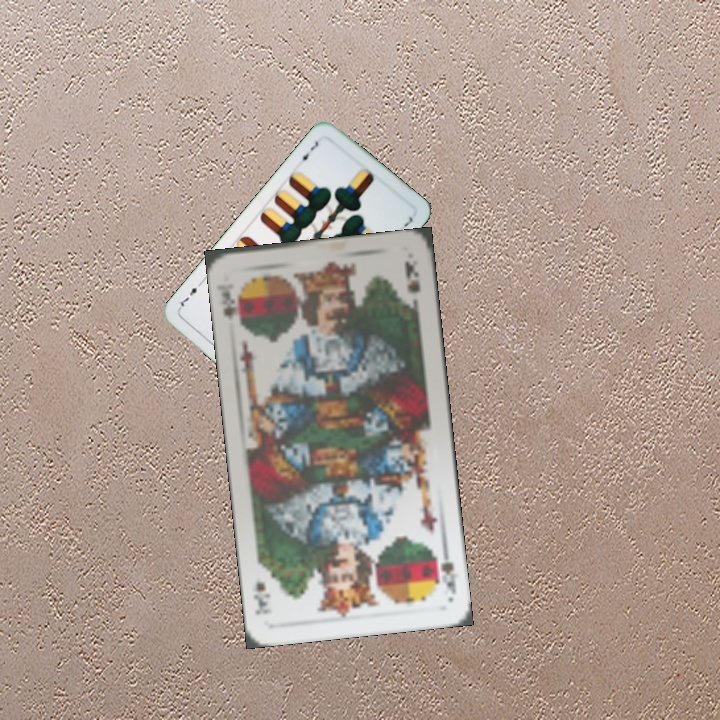E7: (295, 137, 321, 166)
SK: (430, 542, 460, 596), (218, 285, 243, 323)
